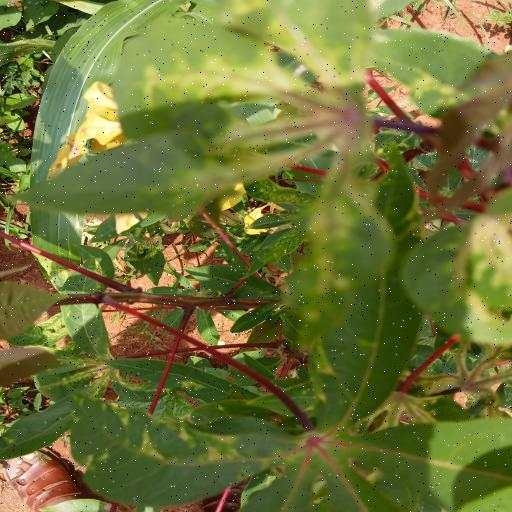Cassava_Healthy: (75, 222, 512, 512), (11, 2, 402, 220)
